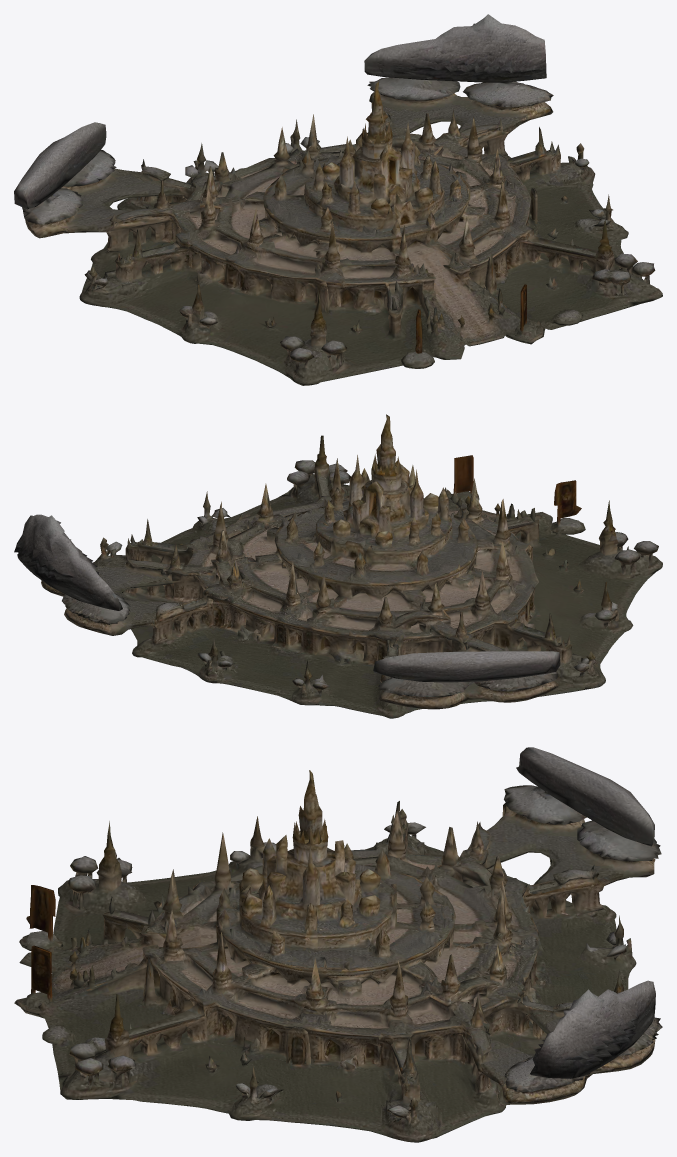
File: city-01.glb
The picture shows the model from 3 angles, top to bottom: view 1: azimuth 30°, elevation 25°; view 2: azimuth 150°, elevation 25°; view 3: azimuth 270°, elevation 25°; orthographic projection. The views are drawn at different scales.
Parts seen in each view (by area): view 1: tripo_node_803333b7-935c-4994-a7a8-f94486a41159; view 2: tripo_node_803333b7-935c-4994-a7a8-f94486a41159; view 3: tripo_node_803333b7-935c-4994-a7a8-f94486a41159.
Part boxes in pixels (<box>): tripo_node_803333b7-935c-4994-a7a8-f94486a41159: <box>14,14,662,385</box>; tripo_node_803333b7-935c-4994-a7a8-f94486a41159: <box>14,414,662,718</box>; tripo_node_803333b7-935c-4994-a7a8-f94486a41159: <box>14,747,662,1142</box>.
Size of the model in its own units: 1 by 0.3314 by 0.8747.
Materials: 1 (1 with a texture image).
